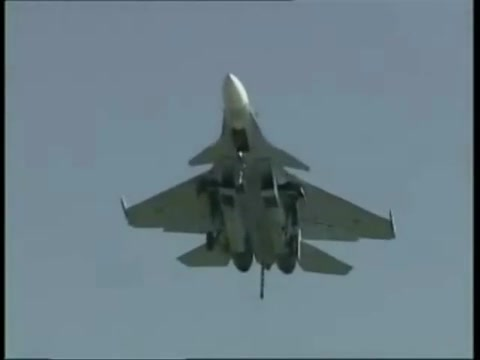aeroplane: (121, 74, 398, 299)
